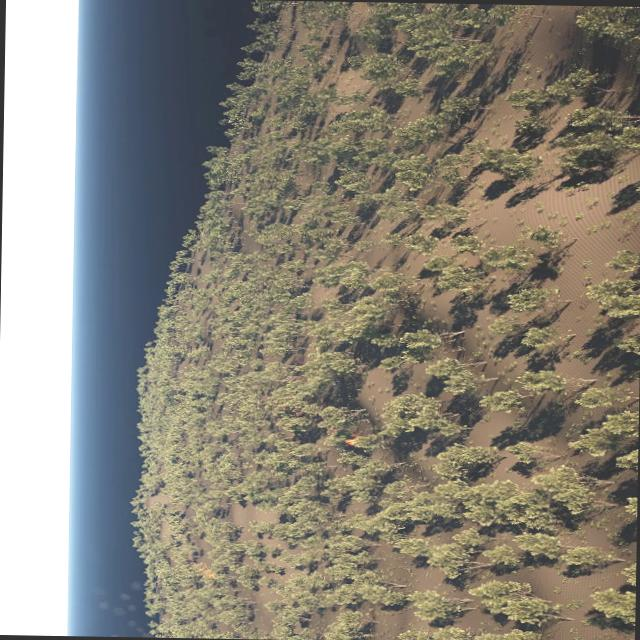fire: (346, 434, 361, 444)
smoke: (84, 580, 152, 637)
